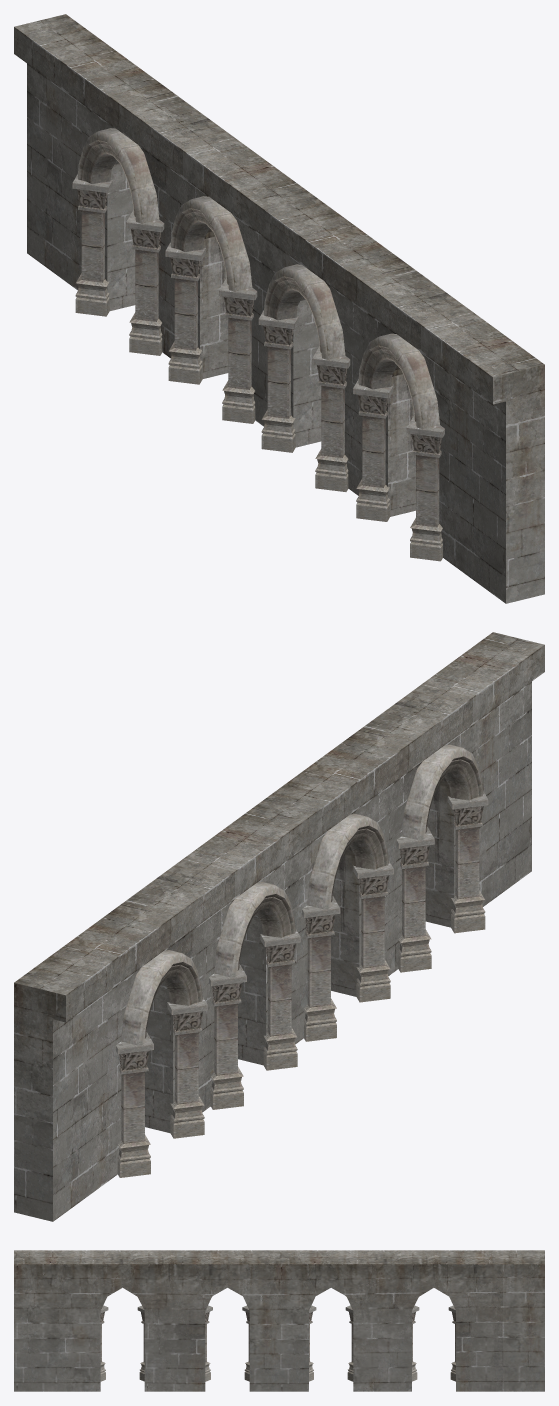
The model's file is bg_lut_lucastle_arenaarch01a_sm_ksh.FBX.
3 renders of one model, top to bottom at view 1: azimuth 30°, elevation 25°; view 2: azimuth 150°, elevation 25°; view 3: azimuth 270°, elevation 25°, orthographic. The views are drawn at different scales.
Parts seen in each view (by area): view 1: bg_lut_lucastle_arenaarch01a_sm_ksh; view 2: bg_lut_lucastle_arenaarch01a_sm_ksh; view 3: bg_lut_lucastle_arenaarch01a_sm_ksh.
Boxes of the visible parts, box(x1,y1,x2,y2) form: bg_lut_lucastle_arenaarch01a_sm_ksh: box(14, 14, 544, 603); bg_lut_lucastle_arenaarch01a_sm_ksh: box(14, 632, 544, 1221); bg_lut_lucastle_arenaarch01a_sm_ksh: box(14, 1250, 544, 1391).
Size of the model in its own units: 61.85 by 203 by 768.
